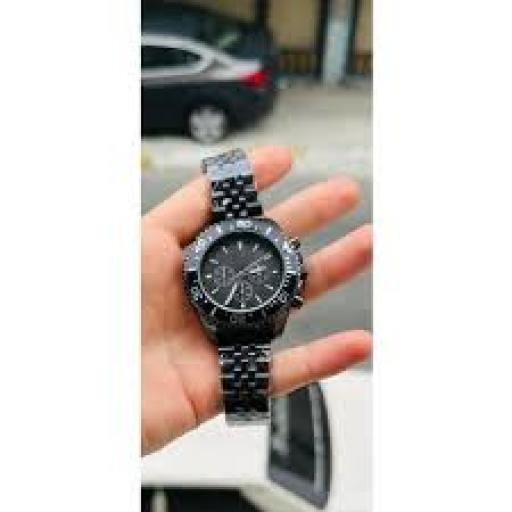KolSaati: (170, 120, 312, 426)
